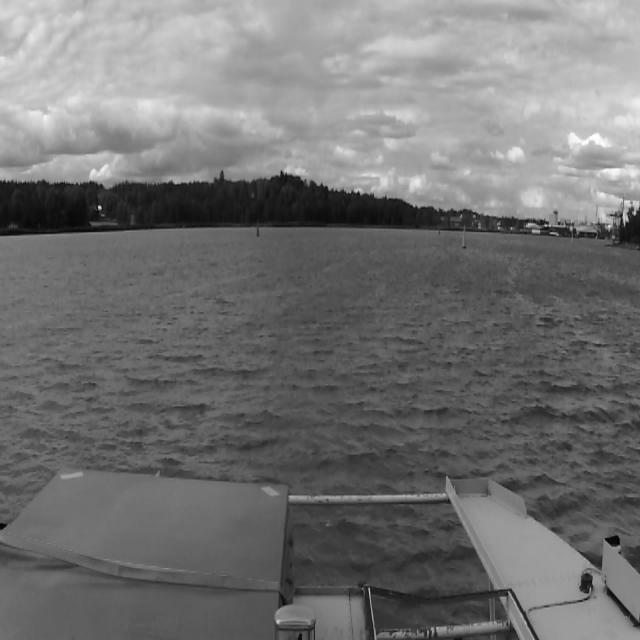buoy: (463, 224, 467, 248), (257, 220, 259, 237)
